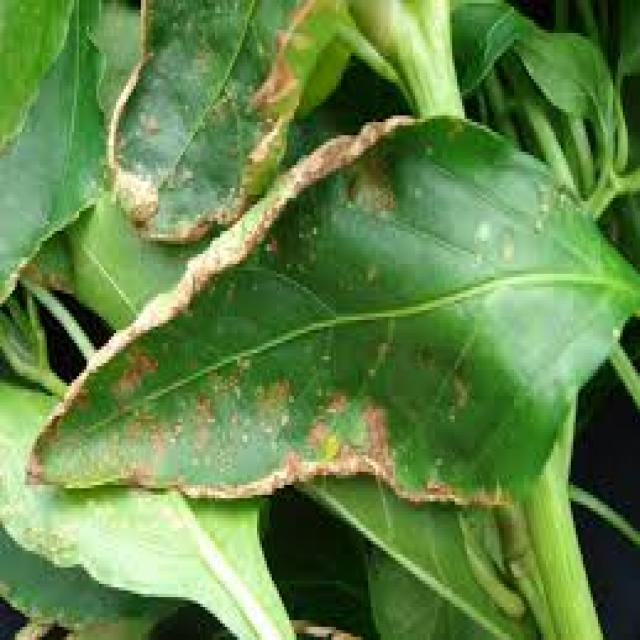bercak_daun: (24, 108, 616, 504)
